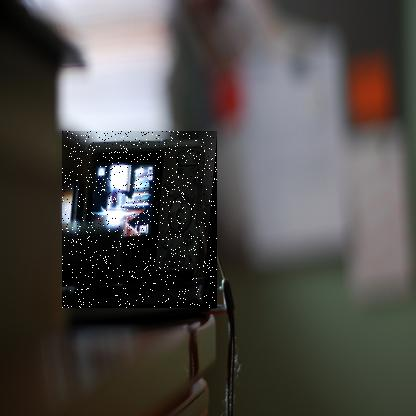Camera: (63, 132, 219, 310)
